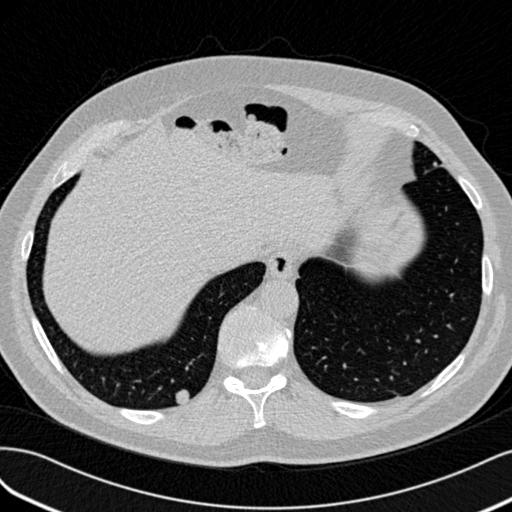nodule: (172, 388, 191, 407)
